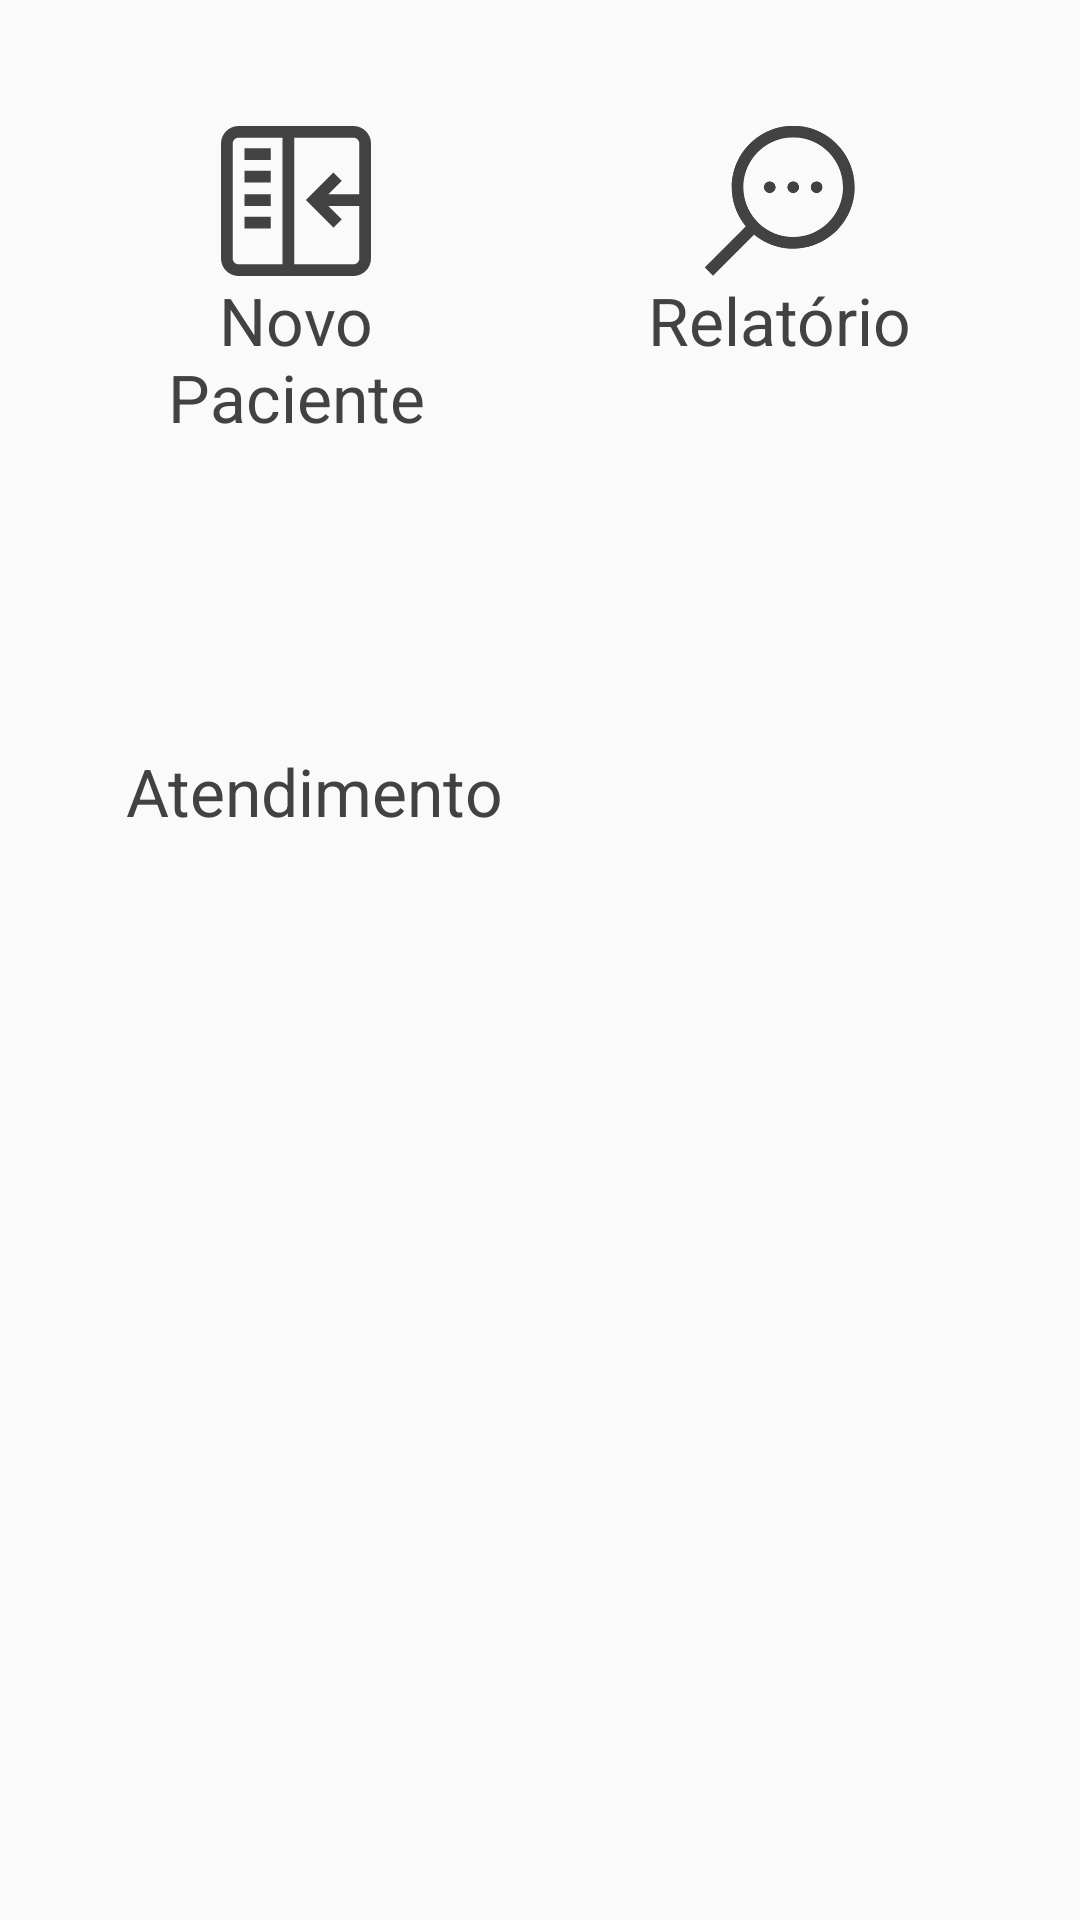

Locate icon controls on the screen. Image size 1080*1920, boxes as (x1, y1, x2, y2).
search: (705, 126, 855, 276)
